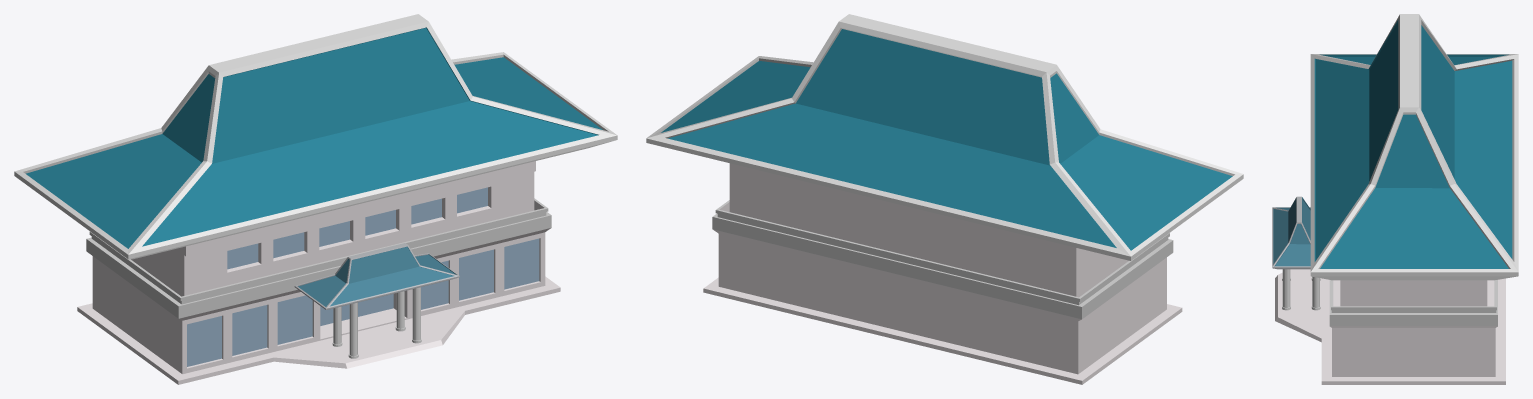
The model's file is cheongnam.fbx.
The picture shows the model from 3 angles, left to right: view 1: azimuth 30°, elevation 25°; view 2: azimuth 150°, elevation 25°; view 3: azimuth 270°, elevation 25°; orthographic projection. The views are drawn at different scales.
Visible parts, largest first — view 1: Cube.001, Cube, Cube.002; view 2: Cube.001, Cube; view 3: Cube.001, Cube, Cube.002, Cylinder.007, Cylinder.006.
Boxes of the visible parts, x1,y1,x2,y2 form: Cube.001: (14,14,617,259); Cube: (77,161,560,384); Cube.002: (294,243,459,309); Cube.001: (646,14,1243,260); Cube: (703,163,1182,384); Cube.001: (1310,14,1518,280); Cube: (1275,269,1505,384); Cube.002: (1272,196,1310,269); Cylinder.007: (1282,269,1290,310); Cylinder.006: (1311,276,1320,310).
Bounding box in the file's own units: 4662 × 2395 × 2226.
